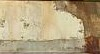Corrosion: (52, 1, 100, 54)
